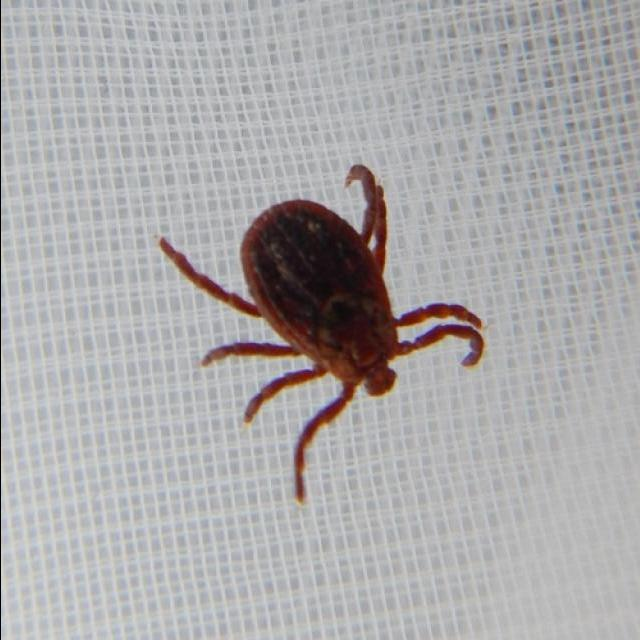Dermacentor Reticulatus-M: (157, 166, 483, 503)
